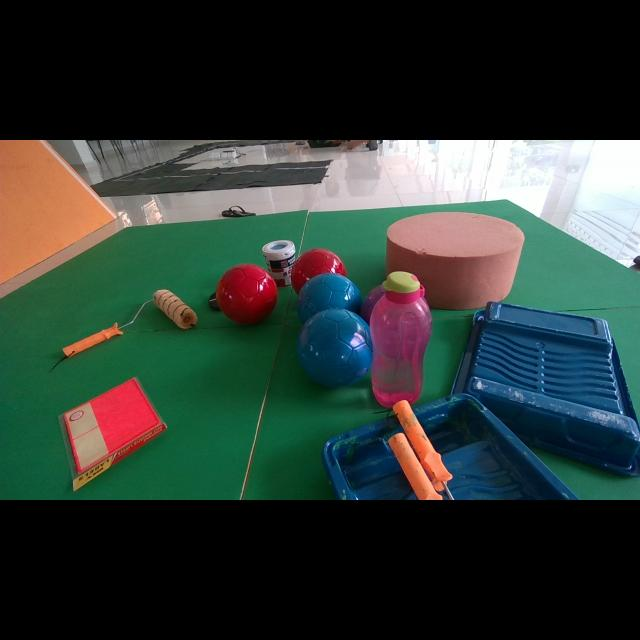B: (296, 309, 372, 388), (298, 272, 362, 323)
P: (360, 285, 386, 323)
R: (216, 264, 278, 324), (291, 249, 346, 293)
